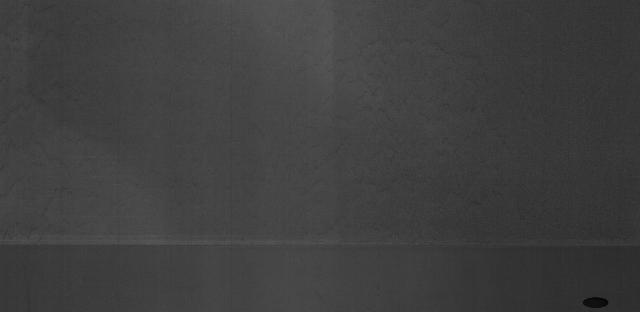punching_hole: (578, 294, 613, 311)
silk_spot: (327, 18, 528, 219), (3, 14, 102, 223)
welding_line: (9, 229, 633, 261)
